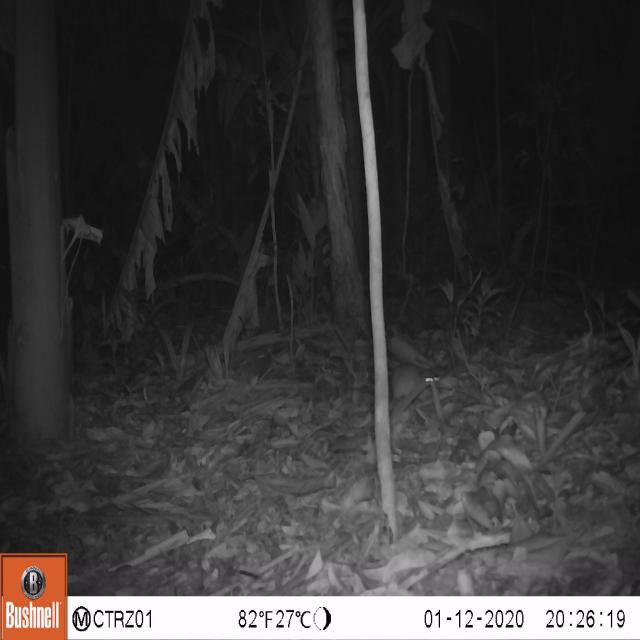Rodent: (374, 324, 456, 425)
